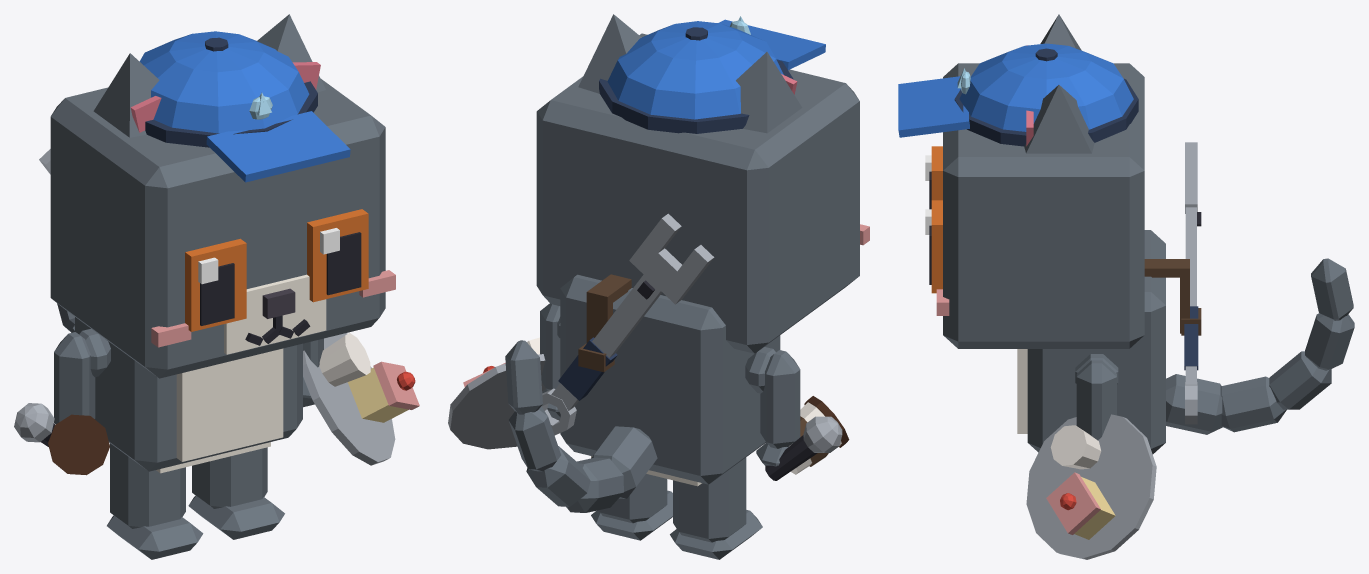
The model's file is CatCafe_Cat_Plumber_Work.glb.
3 views of the same model, side by side, from view 1: azimuth 30°, elevation 25°; view 2: azimuth 150°, elevation 25°; view 3: azimuth 270°, elevation 25° (orthographic). The views are drawn at different scales.
Parts seen in each view (by area): view 1: CatCafe_Cat_Plumber_Work_Head, CatCafe_Cat_Plumber_Work_Body, CatCafe_Cat_Plumber_Work_Prop, CatCafe_Cat_Plumber_Work_Held_Waiter, CatCafe_Cat_Plumber_Work_LegB2, CatCafe_Cat_Plumber_Work_LegB1, CatCafe_Cat_Plumber_Work_Eye2, CatCafe_Cat_Plumber_Work_Eye1, CatCafe_Cat_Plumber_Work_EarR, CatCafe_Cat_Plumber_Work_LegF2, CatCafe_Cat_Plumber_Work_Held_Barista, CatCafe_Cat_Plumber_Work_EarL (+2 smaller); view 2: CatCafe_Cat_Plumber_Work_Head, CatCafe_Cat_Plumber_Work_Body, CatCafe_Cat_Plumber_Work_Prop, CatCafe_Cat_Plumber_Work_Tail, CatCafe_Cat_Plumber_Work_Prop2, CatCafe_Cat_Plumber_Work_LegB2, CatCafe_Cat_Plumber_Work_Held_Waiter, CatCafe_Cat_Plumber_Work_LegF2, CatCafe_Cat_Plumber_Work_EarR, CatCafe_Cat_Plumber_Work_LegB1, CatCafe_Cat_Plumber_Work_Held_Entertainer, CatCafe_Cat_Plumber_Work_EarL (+2 smaller); view 3: CatCafe_Cat_Plumber_Work_Head, CatCafe_Cat_Plumber_Work_Prop, CatCafe_Cat_Plumber_Work_Held_Waiter, CatCafe_Cat_Plumber_Work_Body, CatCafe_Cat_Plumber_Work_Tail, CatCafe_Cat_Plumber_Work_Prop2, CatCafe_Cat_Plumber_Work_EarL, CatCafe_Cat_Plumber_Work_LegF1, CatCafe_Cat_Plumber_Work_Eye1, CatCafe_Cat_Plumber_Work_Eye2, CatCafe_Cat_Plumber_Work_EarR.
Boxes of the visible parts, x1,y1,x2,y2 form: CatCafe_Cat_Plumber_Work_Head: (50, 79, 395, 378); CatCafe_Cat_Plumber_Work_Body: (75, 317, 302, 473); CatCafe_Cat_Plumber_Work_Prop: (139, 31, 350, 182); CatCafe_Cat_Plumber_Work_Held_Waiter: (303, 332, 419, 465); CatCafe_Cat_Plumber_Work_LegB2: (107, 443, 203, 559); CatCafe_Cat_Plumber_Work_LegB1: (188, 447, 284, 539); CatCafe_Cat_Plumber_Work_Eye2: (185, 238, 246, 331); CatCafe_Cat_Plumber_Work_Eye1: (307, 209, 368, 302); CatCafe_Cat_Plumber_Work_EarR: (93, 53, 161, 137); CatCafe_Cat_Plumber_Work_LegF2: (54, 332, 95, 423); CatCafe_Cat_Plumber_Work_Held_Barista: (48, 414, 109, 475); CatCafe_Cat_Plumber_Work_EarL: (257, 14, 325, 92); CatCafe_Cat_Plumber_Work_Head: (536, 33, 869, 353); CatCafe_Cat_Plumber_Work_Body: (557, 274, 780, 486); CatCafe_Cat_Plumber_Work_Prop: (599, 16, 825, 133); CatCafe_Cat_Plumber_Work_Tail: (505, 340, 657, 512); CatCafe_Cat_Plumber_Work_Prop2: (541, 213, 714, 435); CatCafe_Cat_Plumber_Work_LegB2: (670, 457, 762, 559); CatCafe_Cat_Plumber_Work_Held_Waiter: (448, 337, 559, 449); CatCafe_Cat_Plumber_Work_LegF2: (756, 350, 800, 466); CatCafe_Cat_Plumber_Work_EarR: (736, 52, 802, 133); CatCafe_Cat_Plumber_Work_LegB1: (591, 474, 672, 540); CatCafe_Cat_Plumber_Work_Held_Entertainer: (765, 416, 842, 480); CatCafe_Cat_Plumber_Work_EarL: (578, 14, 641, 93); CatCafe_Cat_Plumber_Work_Head: (936, 63, 1144, 348); CatCafe_Cat_Plumber_Work_Prop: (898, 43, 1138, 146); CatCafe_Cat_Plumber_Work_Held_Waiter: (1026, 414, 1156, 559); CatCafe_Cat_Plumber_Work_Body: (1017, 230, 1165, 454); CatCafe_Cat_Plumber_Work_Tail: (1166, 258, 1354, 434); CatCafe_Cat_Plumber_Work_Prop2: (1144, 142, 1201, 424); CatCafe_Cat_Plumber_Work_EarL: (1024, 85, 1094, 153); CatCafe_Cat_Plumber_Work_LegF1: (1076, 360, 1116, 440); CatCafe_Cat_Plumber_Work_Eye1: (925, 200, 942, 293); CatCafe_Cat_Plumber_Work_Eye2: (925, 146, 942, 209); CatCafe_Cat_Plumber_Work_EarR: (1026, 14, 1081, 50).
Size of the model in its own units: 1.53 by 1.93 by 1.72.
1 material, 1 textured.
